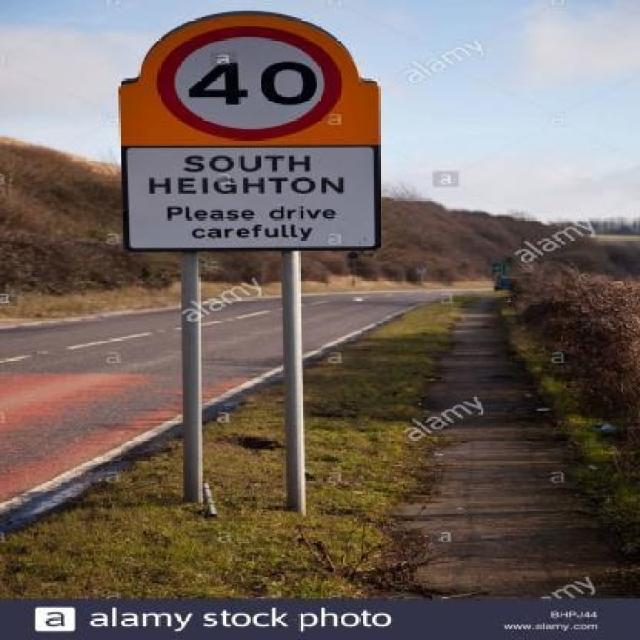forb_speed_over_40: (161, 27, 342, 139)
